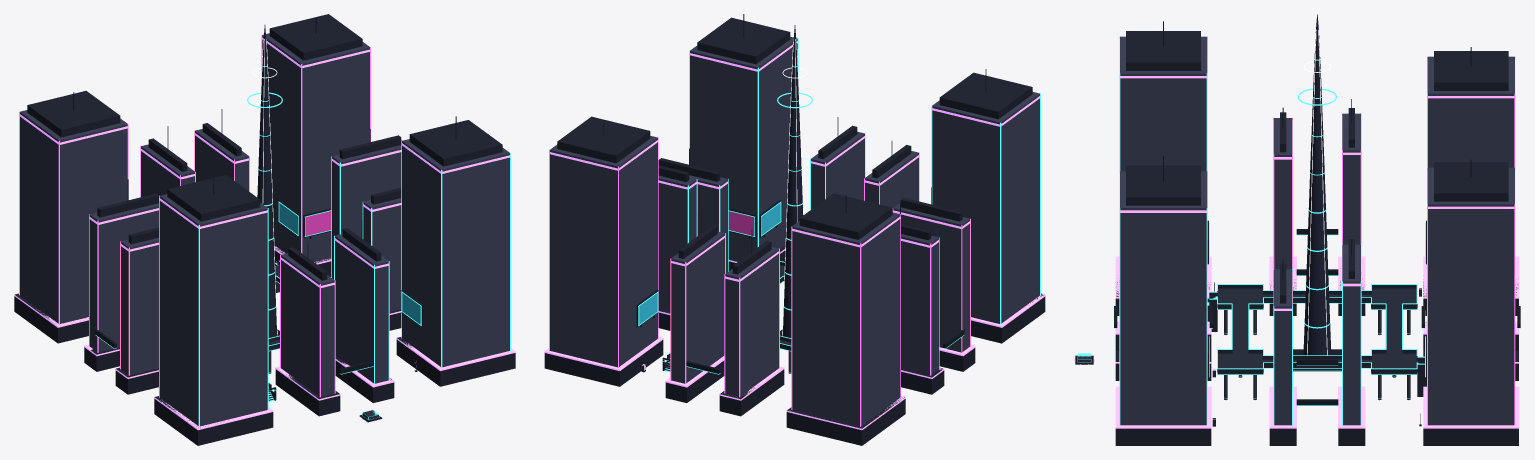
3 renders of one model, left to right at view 1: azimuth 30°, elevation 25°; view 2: azimuth 150°, elevation 25°; view 3: azimuth 270°, elevation 25°, orthographic. The views are drawn at different scales.
Visible parts, largest first — view 1: district_city_cero.lod1; view 2: district_city_cero.lod1; view 3: district_city_cero.lod1.
Boxes of the visible parts, box(x1,y1,x2,y2) form: district_city_cero.lod1: box(14, 14, 515, 445); district_city_cero.lod1: box(544, 14, 1045, 445); district_city_cero.lod1: box(1074, 14, 1520, 445).
Size of the model in its own units: 97.85 by 92.01 by 107.
